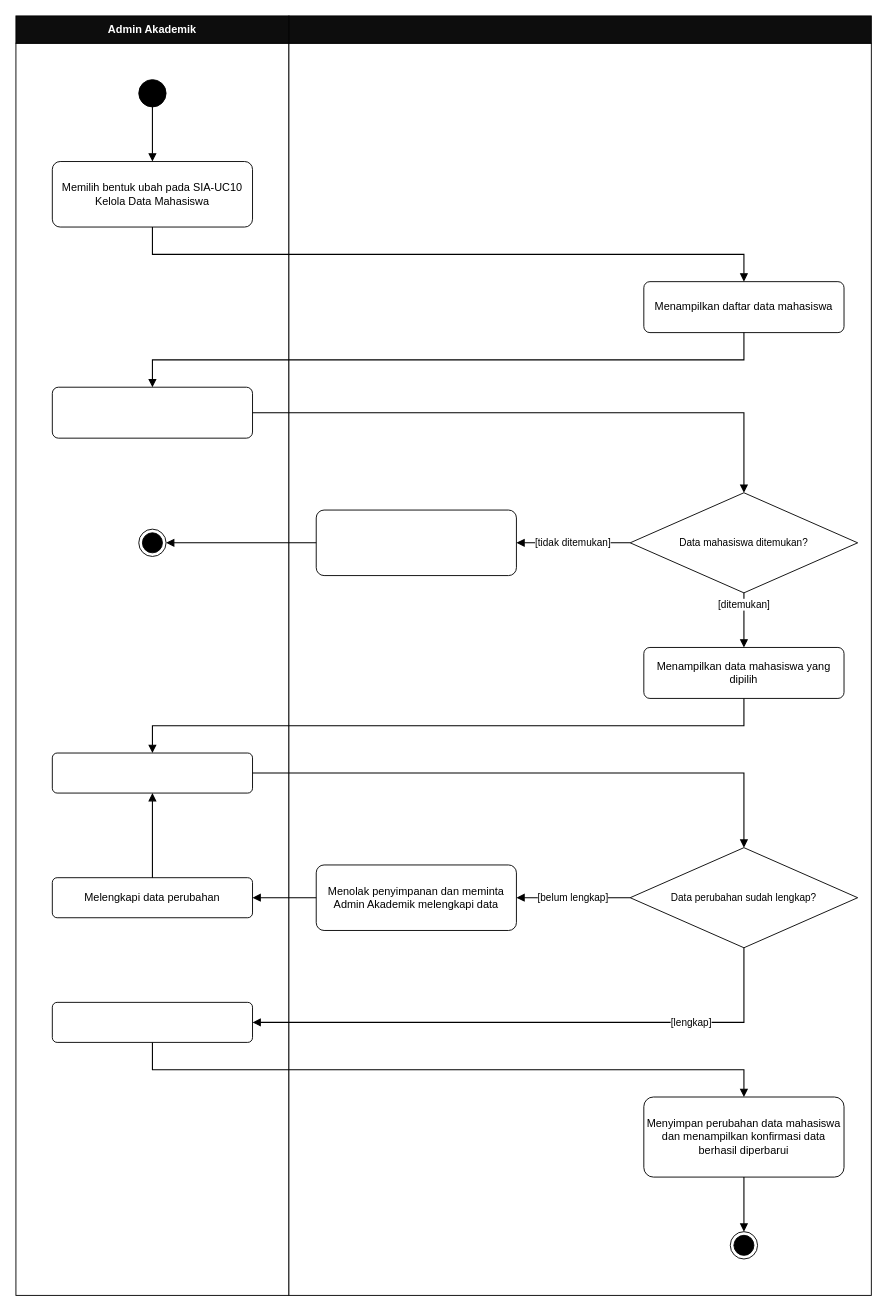
Image size: 887x1311. Some labels were removed from this diagram. The centre of each missing label's shape, as x and y in pixels:
Memilih data mahasiswa yang akan diubah: the point at 152,412
Memperbarui data mahasiswa: the point at 152,772
Menampilkan informasi data tidak ditemukan dan perubahan tidak dilakukan: the point at 415,542
Menyimpan perubahan: the point at 152,1021
Sistem: the point at 579,29
